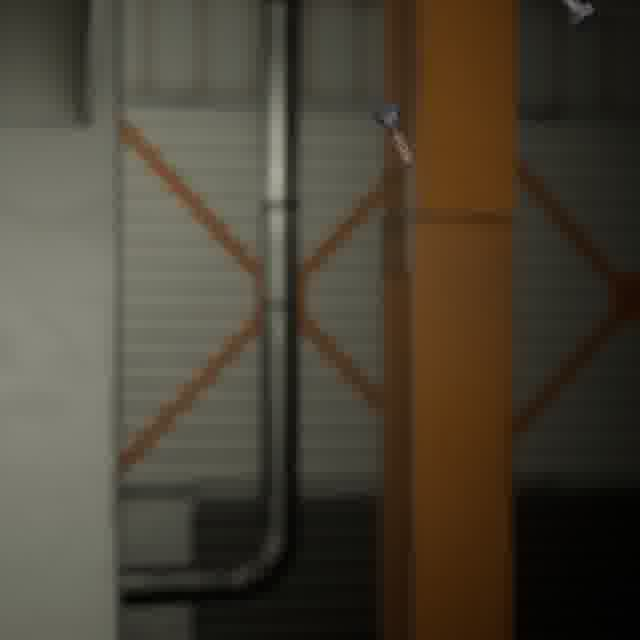bolt: (369, 98, 416, 169), (555, 0, 600, 35)
